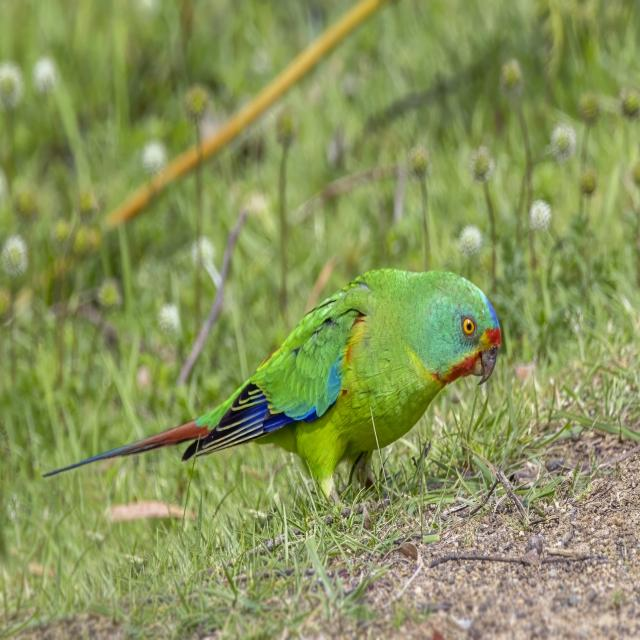Parrot: (35, 262, 502, 508)
